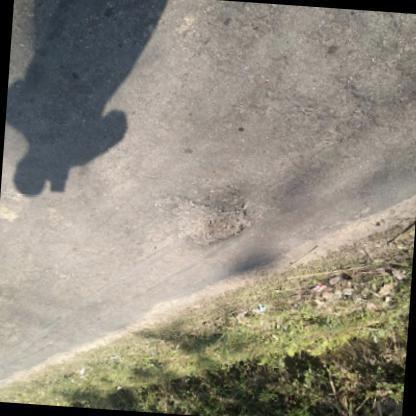pothole: (163, 189, 249, 249)
